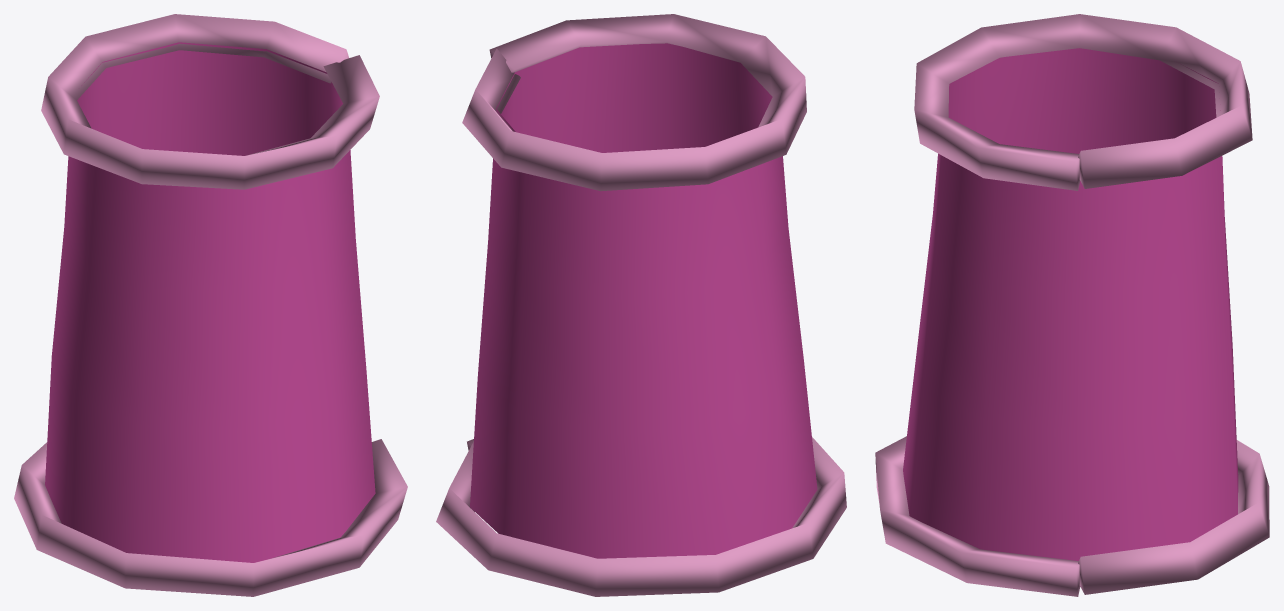
Rendered from orichalcum_armor_bracer.L.glb.
3 renders of one model, left to right at view 1: azimuth 30°, elevation 25°; view 2: azimuth 150°, elevation 25°; view 3: azimuth 270°, elevation 25°, orthographic. The views are drawn at different scales.
Visible parts, largest first — view 1: orichalcum_armor_bracer.L; view 2: orichalcum_armor_bracer.L; view 3: orichalcum_armor_bracer.L.
Part boxes in pixels (x1,y1,x2,y2): orichalcum_armor_bracer.L: (14, 14, 407, 596); orichalcum_armor_bracer.L: (436, 14, 846, 596); orichalcum_armor_bracer.L: (875, 14, 1269, 596).
Bounding box in the file's own units: 0.144 × 0.1719 × 0.1414.
